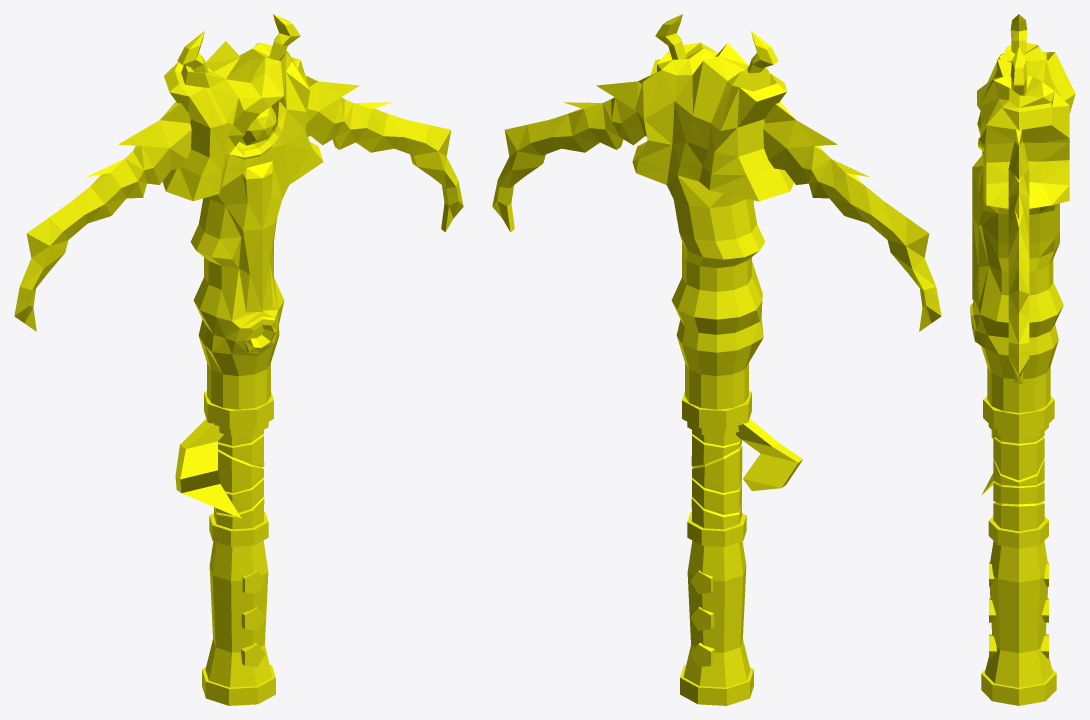
The model's file is _crossbow_18.glb.
The picture shows the model from 3 angles, left to right: view 1: azimuth 30°, elevation 25°; view 2: azimuth 150°, elevation 25°; view 3: azimuth 270°, elevation 25°; orthographic projection.
Visible parts, largest first — view 1: crossbow_18; view 2: crossbow_18; view 3: crossbow_18.
Part boxes in pixels (x1,y1,x2,y2): crossbow_18: (14, 14, 463, 705); crossbow_18: (492, 14, 941, 705); crossbow_18: (970, 14, 1075, 705).
Bounding box in the file's own units: 21017 × 29856 × 4319.
